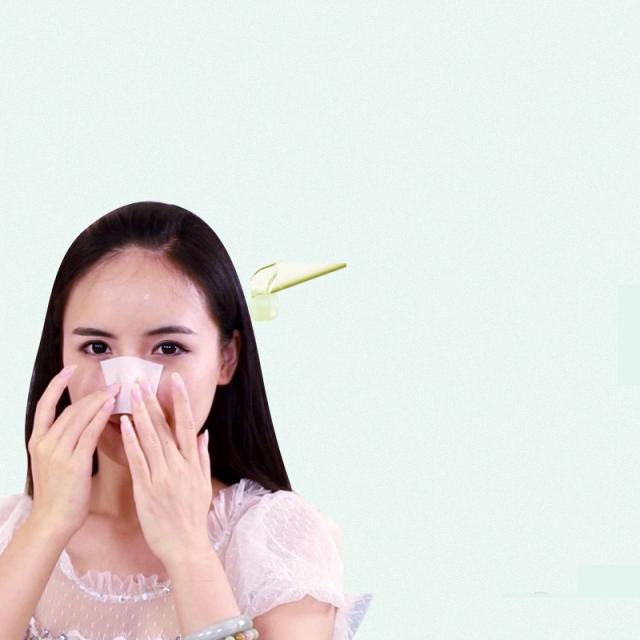nomask: (58, 254, 218, 471)
